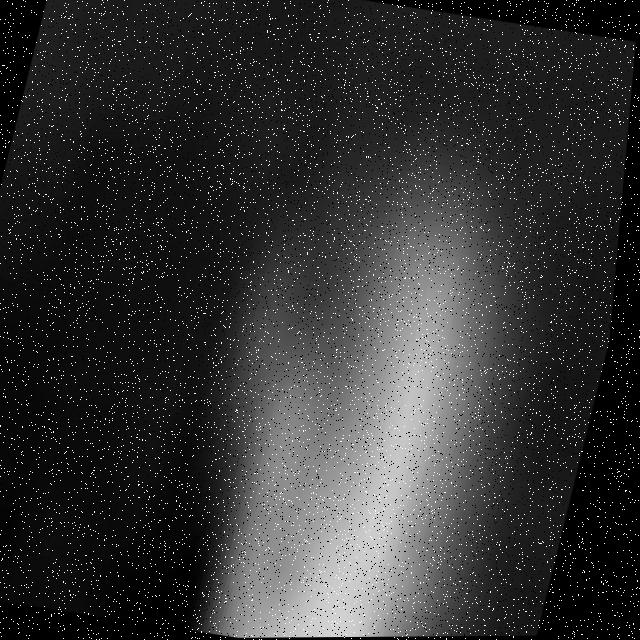person: (165, 112, 563, 640)
